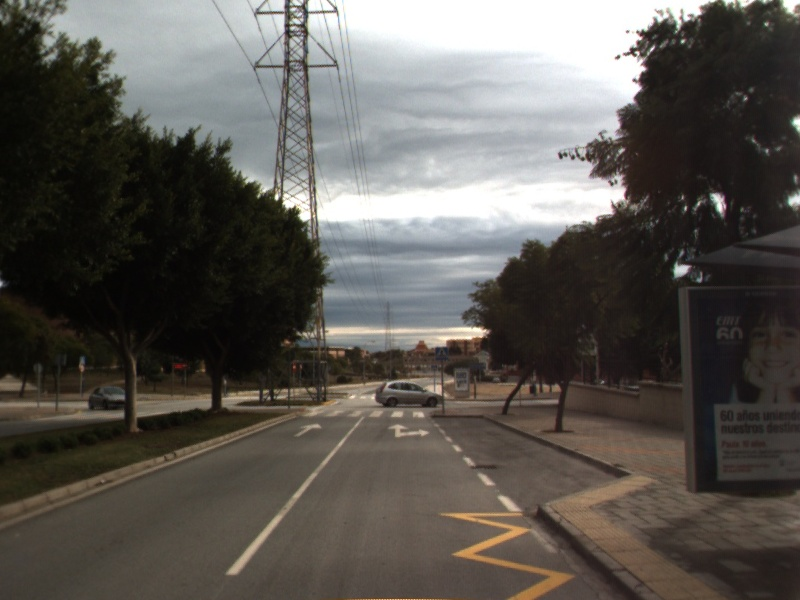STRAIGHT: (291, 420, 324, 439)
STRAIGHT_RIGHT: (386, 422, 432, 439)
